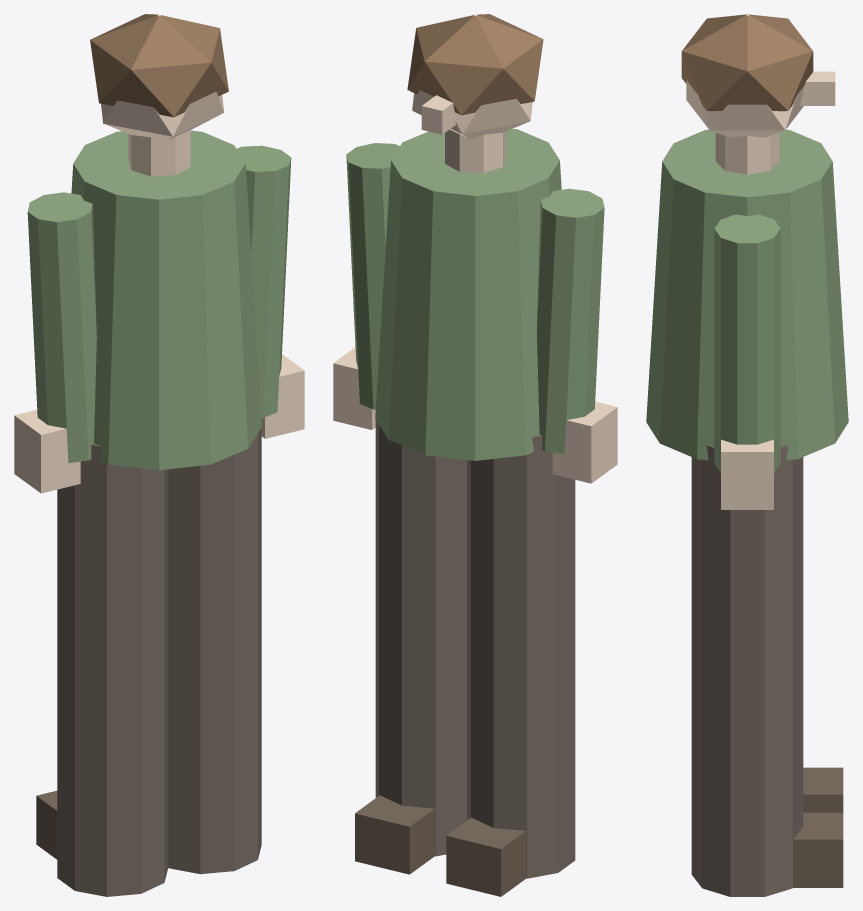
The model's file is child_boy.glb.
3 renders of one model, left to right at view 1: azimuth 30°, elevation 25°; view 2: azimuth 150°, elevation 25°; view 3: azimuth 270°, elevation 25°, orthographic. The views are drawn at different scales.
Visible parts, largest first — view 1: child_boy; view 2: child_boy; view 3: child_boy.
Part boxes in pixels (x1=…): child_boy: x1=14, y1=14, x2=304, y2=896; child_boy: x1=333, y1=14, x2=617, y2=896; child_boy: x1=646, y1=14, x2=848, y2=896.
Bounding box in the file's own units: 0.3503 × 1.08 × 0.2356.
